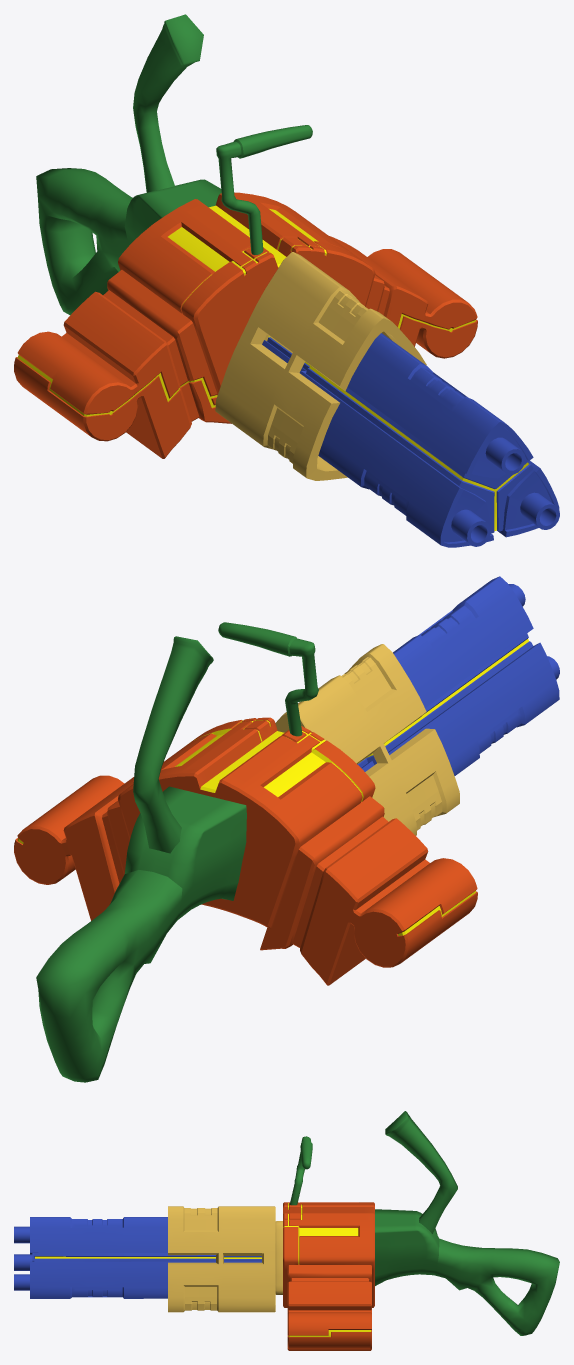
Rendered from Machingun_L_1005.FBX.
3 renders of one model, top to bottom at view 1: azimuth 30°, elevation 25°; view 2: azimuth 150°, elevation 25°; view 3: azimuth 270°, elevation 25°, orthographic. The views are drawn at different scales.
Visible parts, largest first — view 1: 탄창_L, 총열01_L, 손잡이_L, 총열02_L; view 2: 탄창_L, 손잡이_L, 총열01_L, 총열02_L; view 3: 손잡이_L, 탄창_L, 총열01_L, 총열02_L.
Boxes of the visible parts, x1=… form: 탄창_L: x1=14, y1=192, x2=477, y2=458; 총열01_L: x1=262, y1=333, x2=559, y2=547; 손잡이_L: x1=36, y1=14, x2=312, y2=315; 총열02_L: x1=215, y1=252, x2=426, y2=480; 탄창_L: x1=14, y1=717, x2=477, y2=985; 손잡이_L: x1=36, y1=622, x2=318, y2=1082; 총열01_L: x1=357, y1=576, x2=559, y2=775; 총열02_L: x1=275, y1=644, x2=459, y2=835; 손잡이_L: x1=289, y1=1111, x2=559, y2=1335; 탄창_L: x1=283, y1=1202, x2=374, y2=1350; 총열01_L: x1=14, y1=1217, x2=261, y2=1298; 총열02_L: x1=168, y1=1206, x2=282, y2=1312.
Bounding box in the file's own units: 81.48 × 72.66 × 165.
